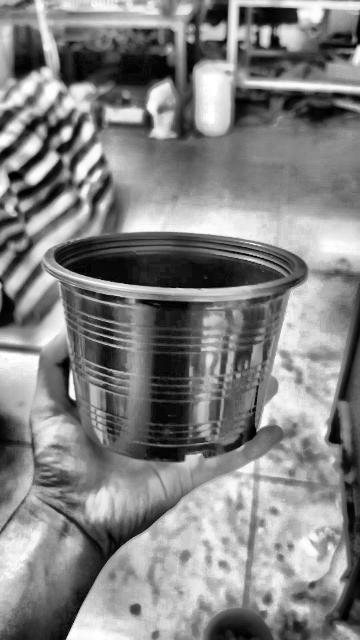pot: (39, 230, 306, 466)
